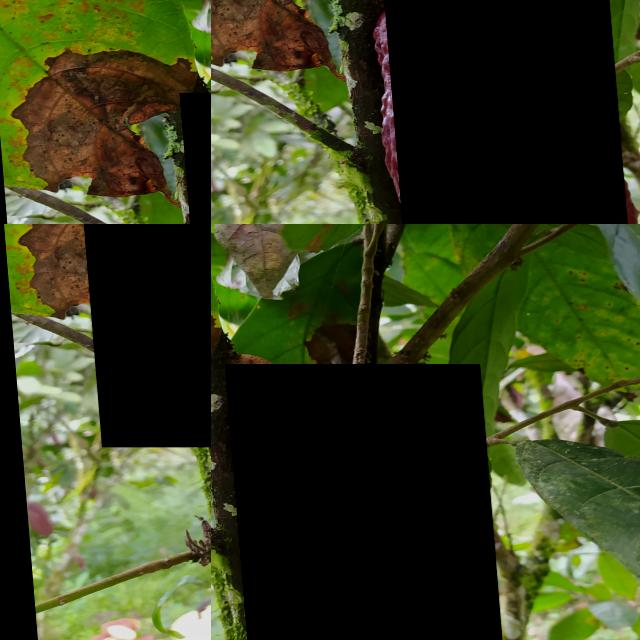Fitoftora: (375, 0, 625, 224), (71, 224, 211, 447)
Sana: (221, 364, 503, 640)
